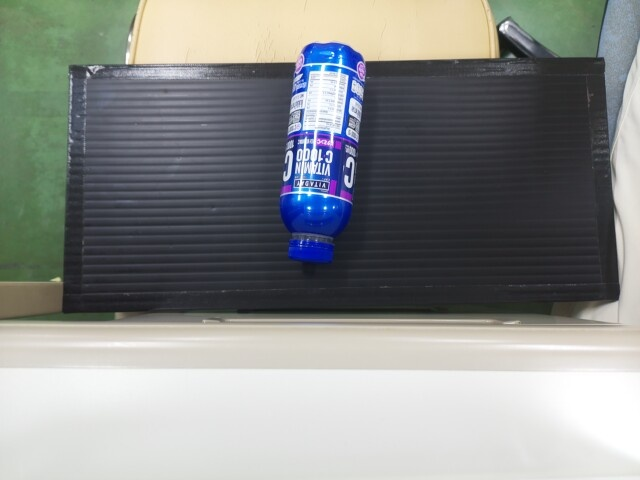plastic_bottle: (278, 40, 366, 260)
